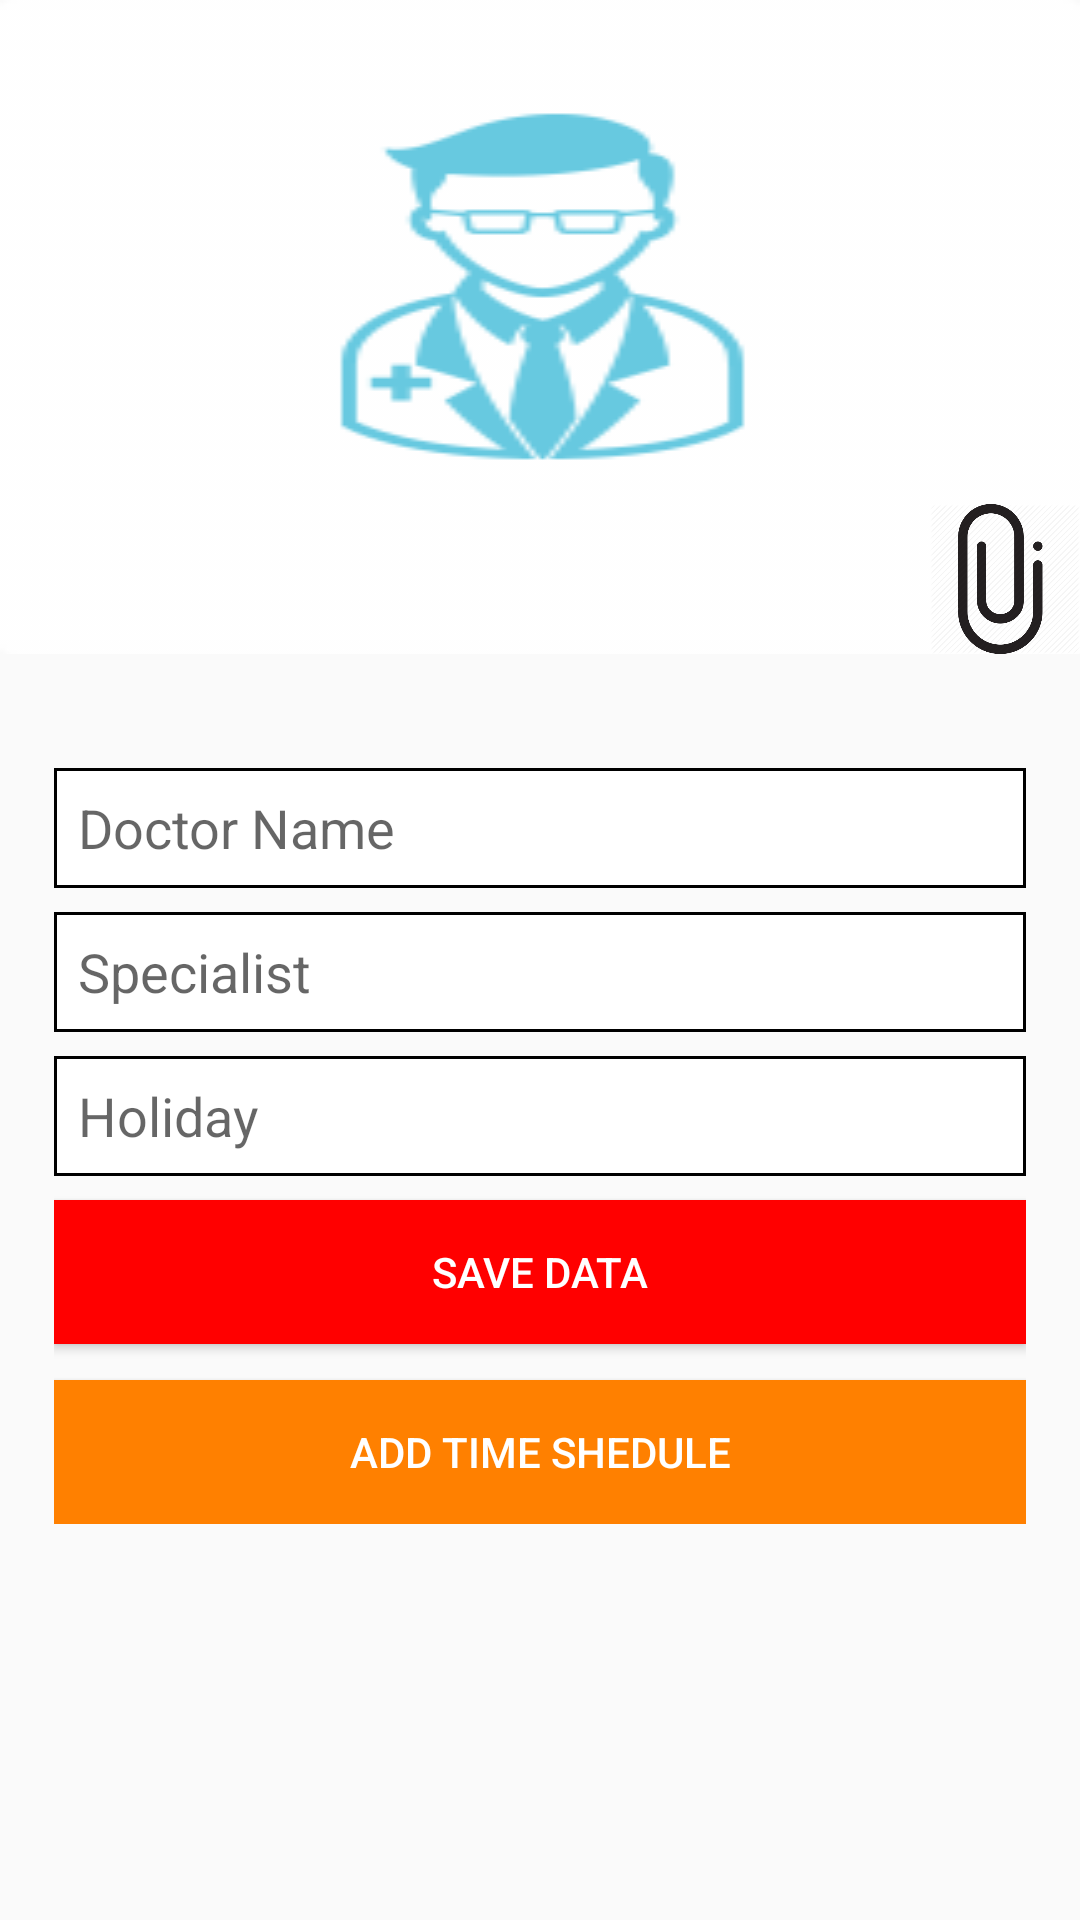

Screen size 1080 x 1920. Icon name, then its center in pixels as (x,y):
chooseimg: (1000,579)
